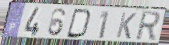1: (98, 10, 111, 40)
4: (24, 6, 41, 38)
6: (46, 8, 67, 38)
D: (65, 8, 93, 40)
K: (115, 11, 138, 41)
R: (134, 10, 163, 43)
